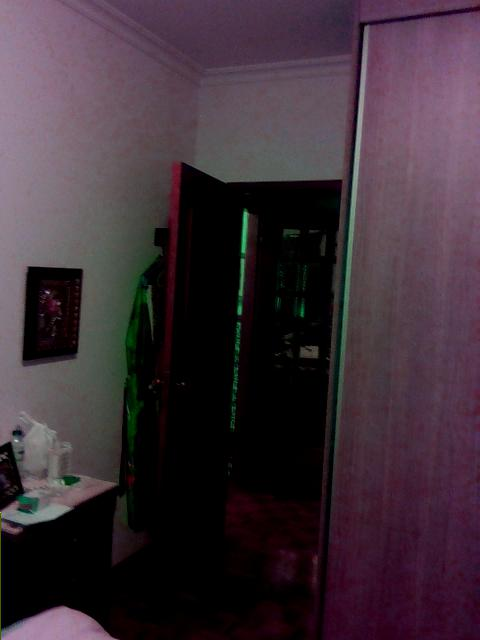open_door: (174, 178, 345, 612)
